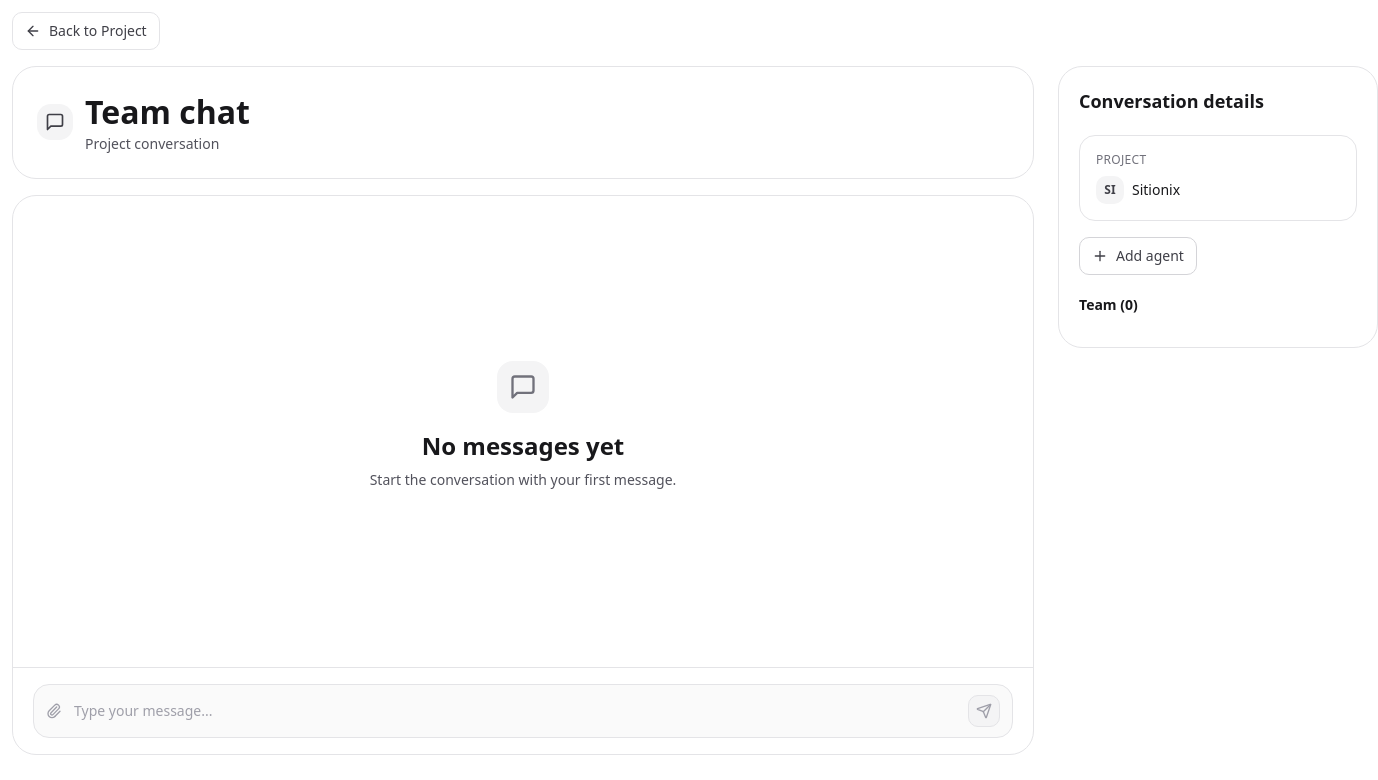
Test case: ProjectConversationPage › rehydrates persisted user message without duplicate optimistic rows after submit
The width and height of the screenshot is (1378, 780).
Expected: the heading "Team chat" is shown, [85,91,250,134]
Type "Need update" into the field with placeholder "Type your message..." at (515, 711), box [74,701,956,721]
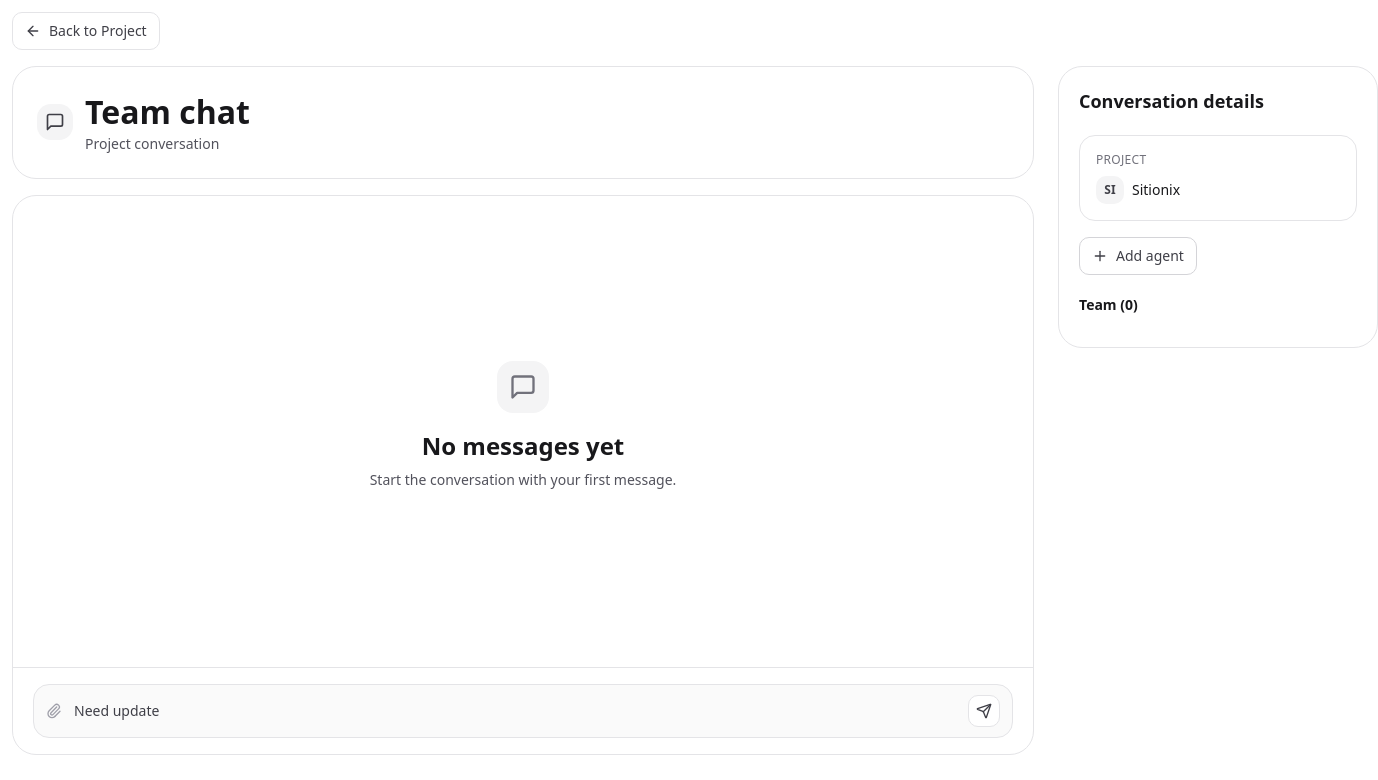
Click the button named "Send message" at (984, 711), box [968,695,1000,727]
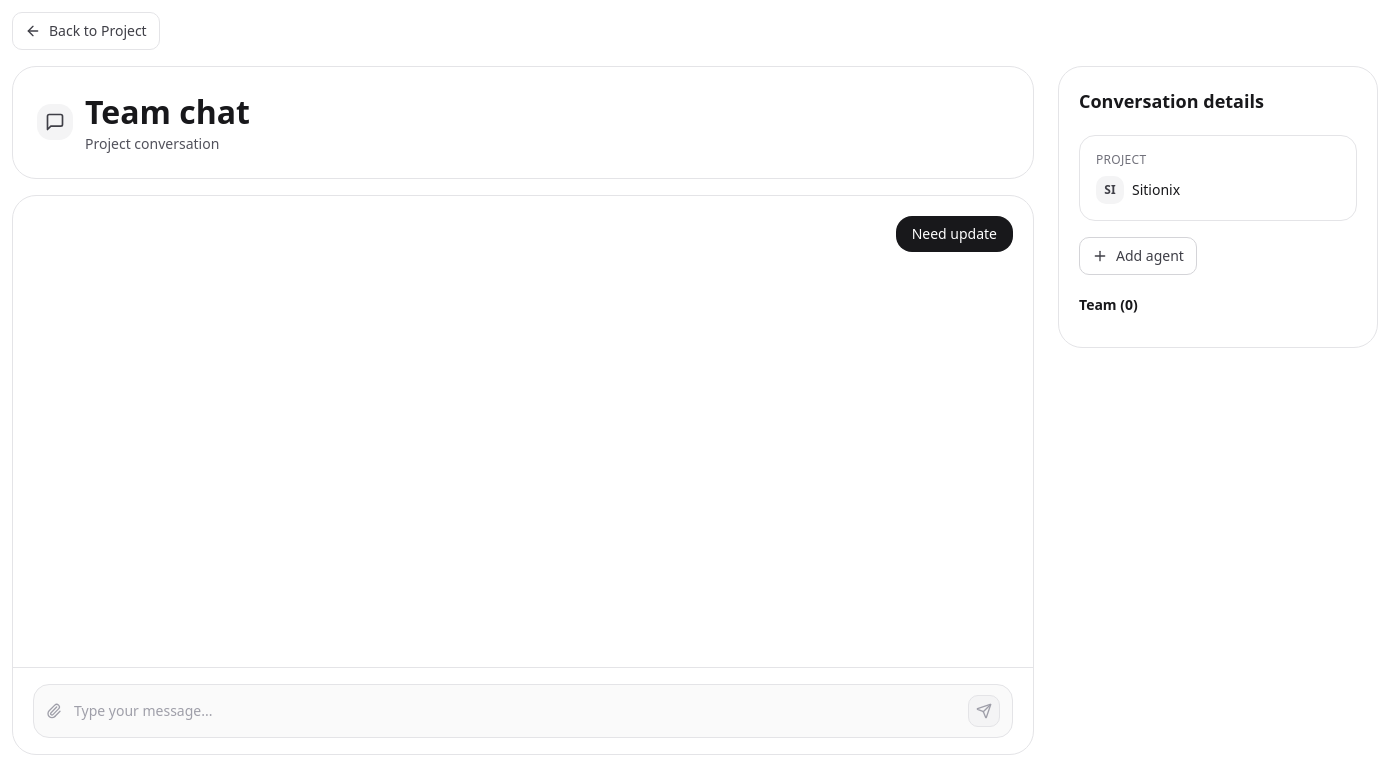
Expected: the text "Need update" is shown once, [896,216,1013,252]
